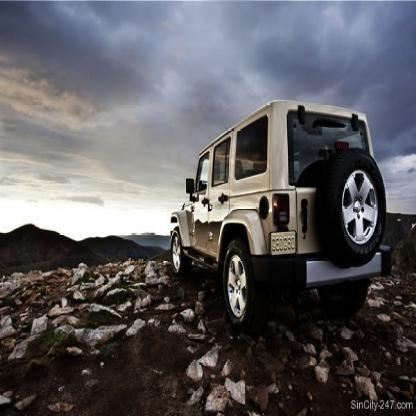Vehicle: (170, 101, 393, 327)
